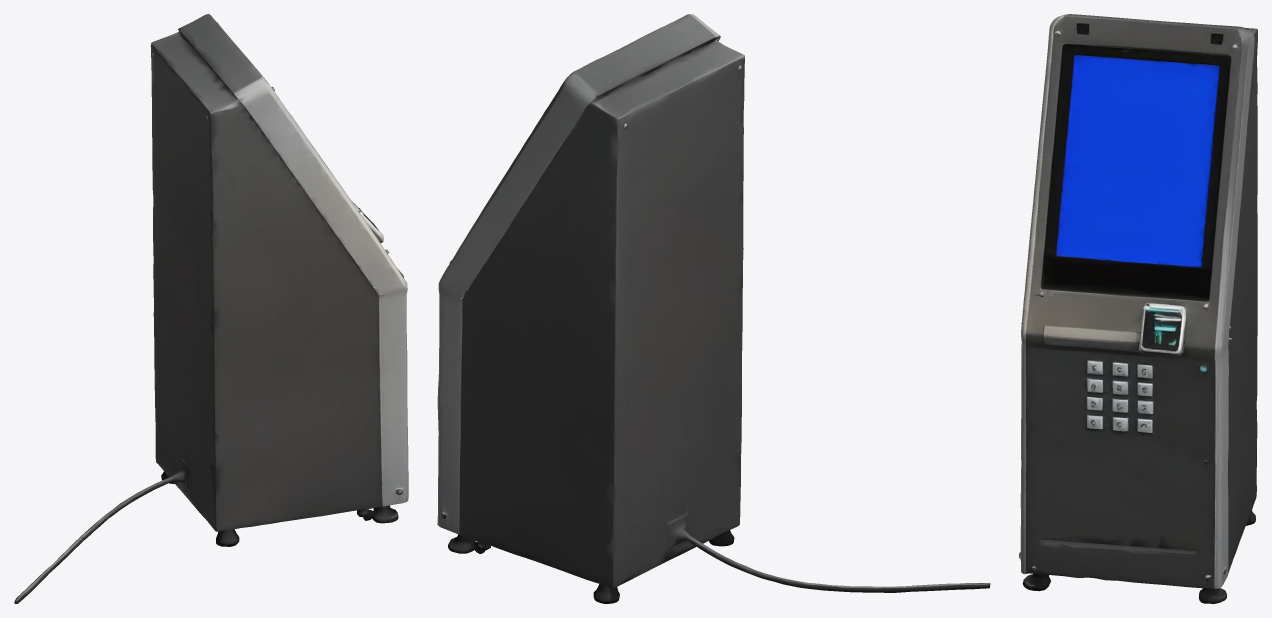
File: financial.glb
3 renders of one model, left to right at view 1: azimuth 30°, elevation 25°; view 2: azimuth 150°, elevation 25°; view 3: azimuth 270°, elevation 25°, orthographic. The views are drawn at different scales.
Visible parts, largest first — view 1: tripo_node_eab3701d-d4b4-4978-98e4-78e91597a5ba; view 2: tripo_node_eab3701d-d4b4-4978-98e4-78e91597a5ba; view 3: tripo_node_eab3701d-d4b4-4978-98e4-78e91597a5ba.
Part boxes in pixels (bbox=[...]): tripo_node_eab3701d-d4b4-4978-98e4-78e91597a5ba: bbox=[14, 14, 408, 603]; tripo_node_eab3701d-d4b4-4978-98e4-78e91597a5ba: bbox=[437, 14, 990, 603]; tripo_node_eab3701d-d4b4-4978-98e4-78e91597a5ba: bbox=[1019, 14, 1257, 603].
Size of the model in its own units: 0.9551 by 1 by 0.424.
Materials: 1 (1 with a texture image).
